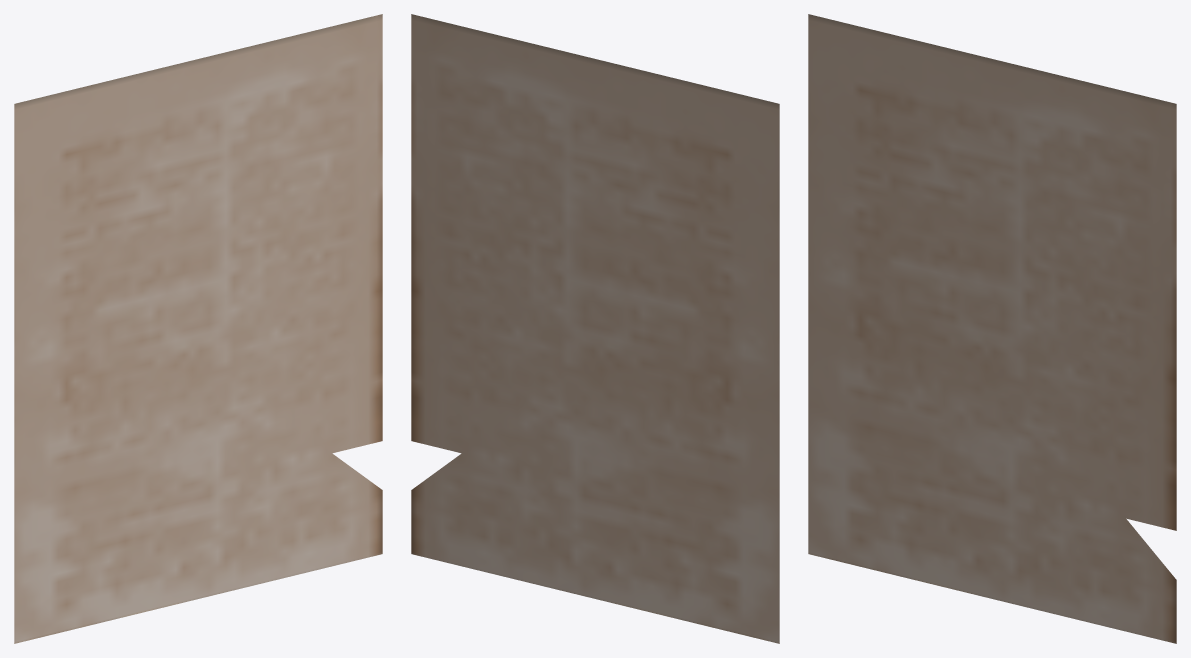
Rendered from Paper_C.fbx.
3 views of the same model, side by side, from view 1: azimuth 30°, elevation 25°; view 2: azimuth 150°, elevation 25°; view 3: azimuth 330°, elevation 25° (orthographic).
Parts seen in each view (by area): view 1: Paper_C; view 2: Paper_C; view 3: Paper_C.
Part boxes in pixels (x1=…): Paper_C: x1=14, y1=14, x2=382, y2=643; Paper_C: x1=411, y1=14, x2=779, y2=643; Paper_C: x1=808, y1=14, x2=1176, y2=643.
Bounding box in the file's own units: 0.3325 × 0.4656 × 2.85e-17.
